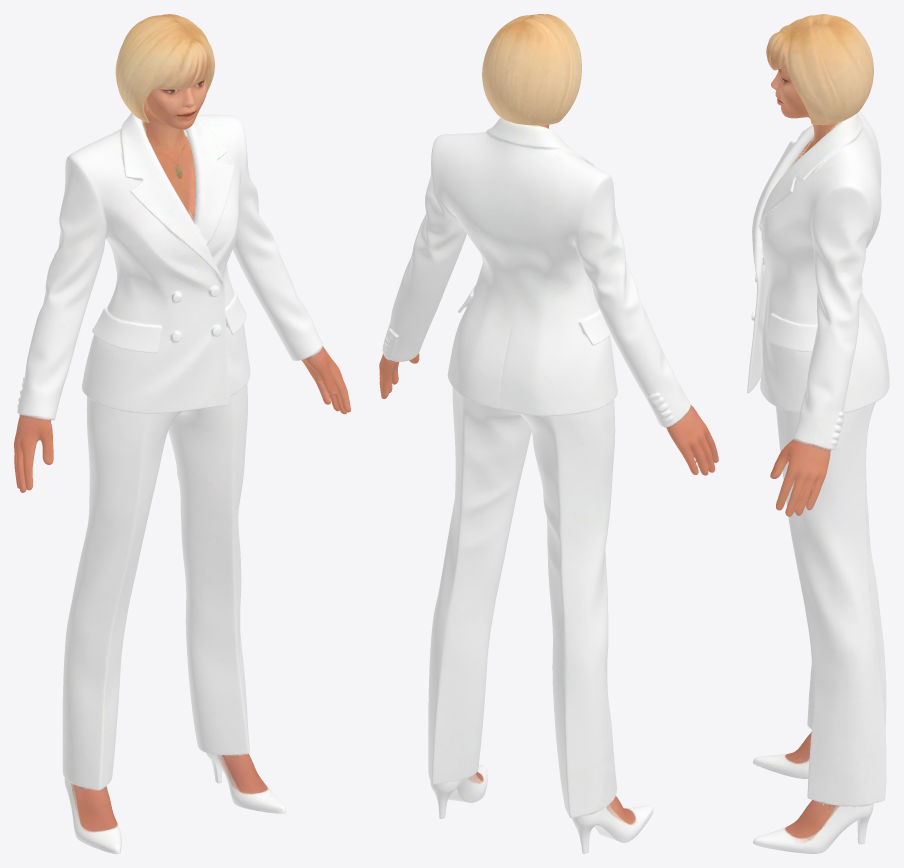
The model's file is opal.glb.
3 renders of one model, left to right at view 1: azimuth 30°, elevation 25°; view 2: azimuth 150°, elevation 25°; view 3: azimuth 270°, elevation 25°, orthographic.
Bounding box in the file's own units: 0.8145 × 1.9 × 0.31.
Materials: 1 (1 with a texture image).
